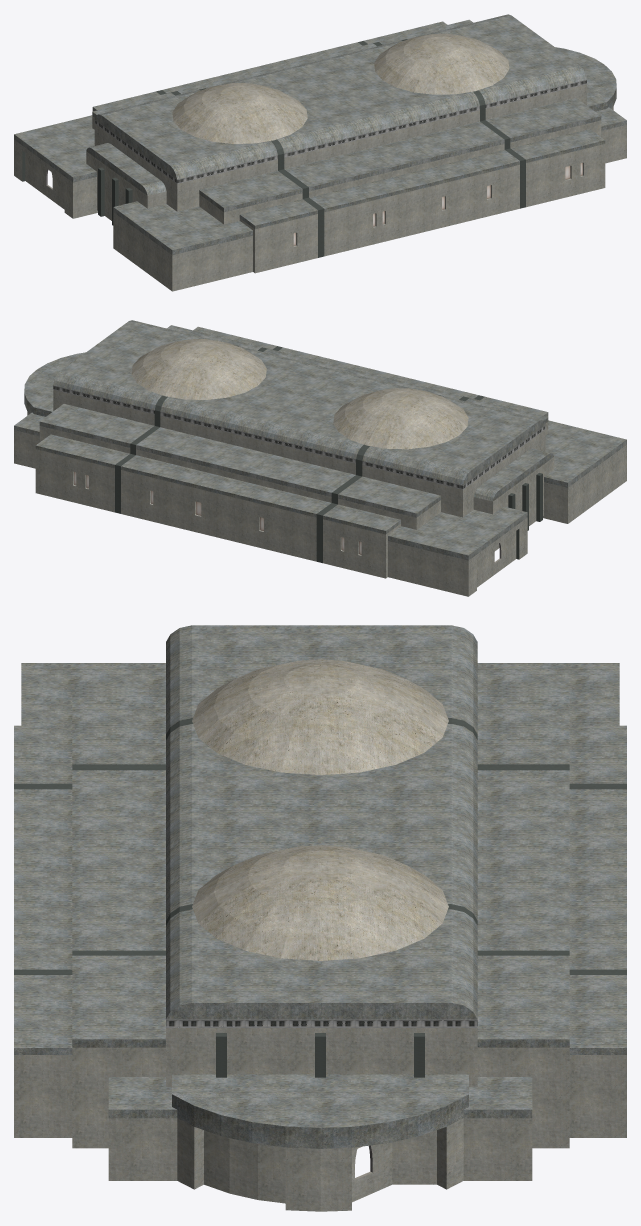
File: thm_all_cantina_r0_mesh_l0.fbx
3 renders of one model, top to bottom at view 1: azimuth 30°, elevation 25°; view 2: azimuth 150°, elevation 25°; view 3: azimuth 270°, elevation 25°, orthographic. The views are drawn at different scales.
Visible parts, largest first — view 1: mesh_node; view 2: mesh_node; view 3: mesh_node.
Part boxes in pixels (x1,y1,x2,y2): mesh_node: (14, 14, 626, 291); mesh_node: (14, 320, 626, 596); mesh_node: (14, 625, 626, 1211).
Size of the model in its own units: 101 by 19.97 by 55.66.
